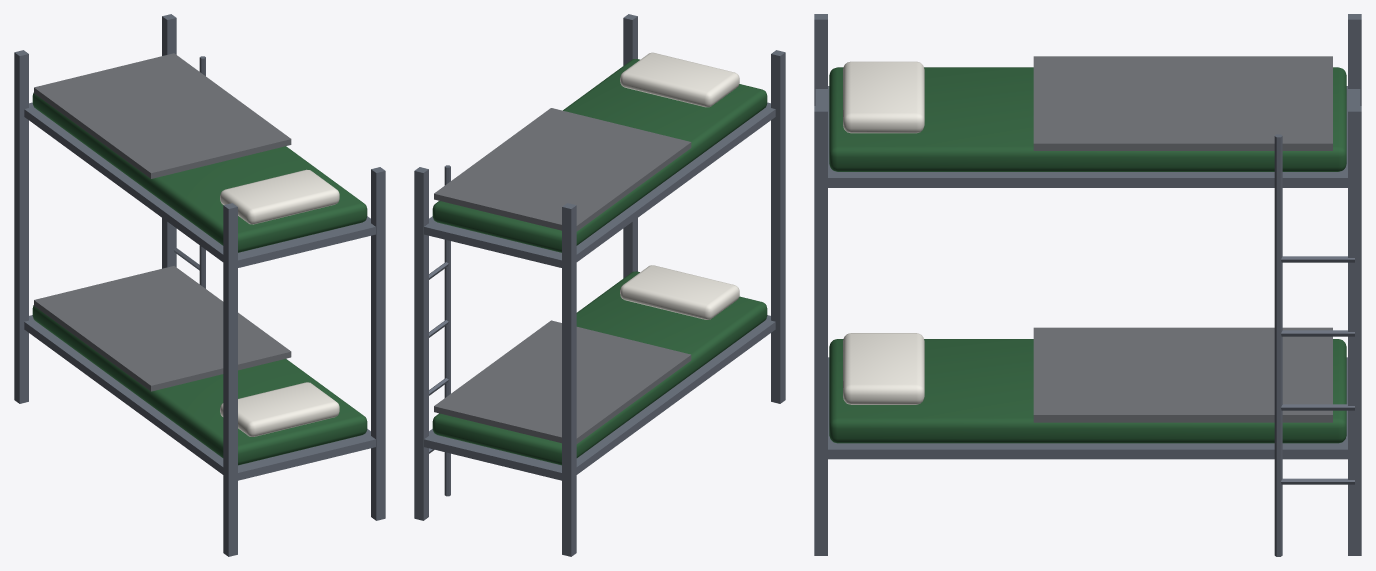
Rendered from justice.prison.bunk.glb.
The picture shows the model from 3 angles, left to right: view 1: azimuth 30°, elevation 25°; view 2: azimuth 150°, elevation 25°; view 3: azimuth 270°, elevation 25°; orthographic projection. The views are drawn at different scales.
Visible parts, largest first — view 1: main__fabric_grey, main__steel_painted, main__fabric_green, main__fabric_white; view 2: main__fabric_grey, main__steel_painted, main__fabric_green, main__fabric_white; view 3: main__fabric_grey, main__fabric_green, main__steel_painted, main__fabric_white.
Boxes of the visible parts, <box> form: main__fabric_grey: <box>34,53,291,391</box>; main__steel_painted: <box>14,14,385,556</box>; main__fabric_green: <box>32,92,367,465</box>; main__fabric_white: <box>220,169,339,436</box>; main__fabric_grey: <box>434,108,691,443</box>; main__steel_painted: <box>414,14,785,556</box>; main__fabric_green: <box>432,59,767,465</box>; main__fabric_white: <box>620,52,739,319</box>; main__fabric_grey: <box>1033,56,1332,422</box>; main__fabric_green: <box>829,67,1346,443</box>; main__steel_painted: <box>814,14,1361,556</box>; main__fabric_white: <box>843,61,924,404</box>.
Bounding box in the file's own units: 0.858 × 1.8 × 2.01.
